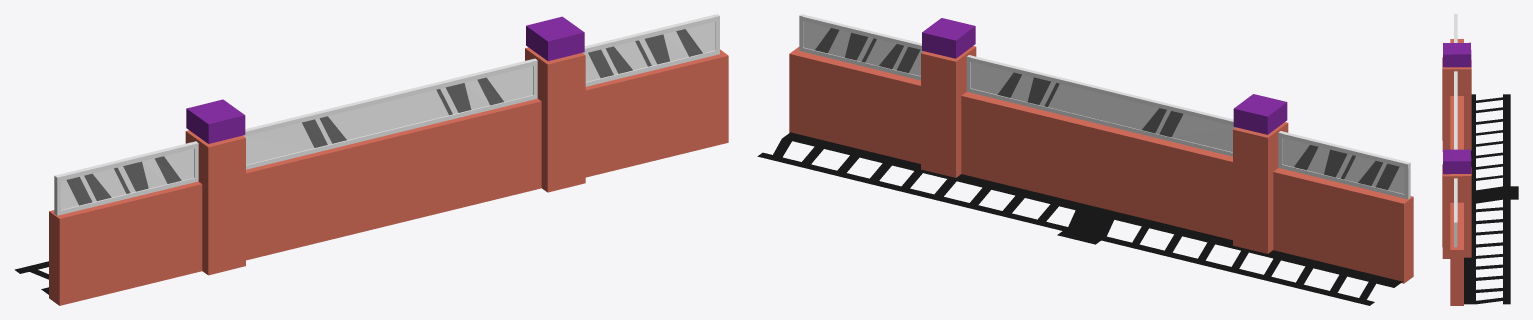
The model's file is langan_04.FBX.
3 renders of one model, left to right at view 1: azimuth 30°, elevation 25°; view 2: azimuth 150°, elevation 25°; view 3: azimuth 270°, elevation 25°, orthographic. The views are drawn at different scales.
Parts seen in each view (by area): view 1: langan_002; view 2: langan_002; view 3: langan_002.
Part boxes in pixels (x1,y1,x2,y2): langan_002: (14, 14, 728, 305); langan_002: (757, 14, 1413, 305); langan_002: (1442, 14, 1518, 305).
Size of the model in its own units: 5320 by 1146 by 811.
